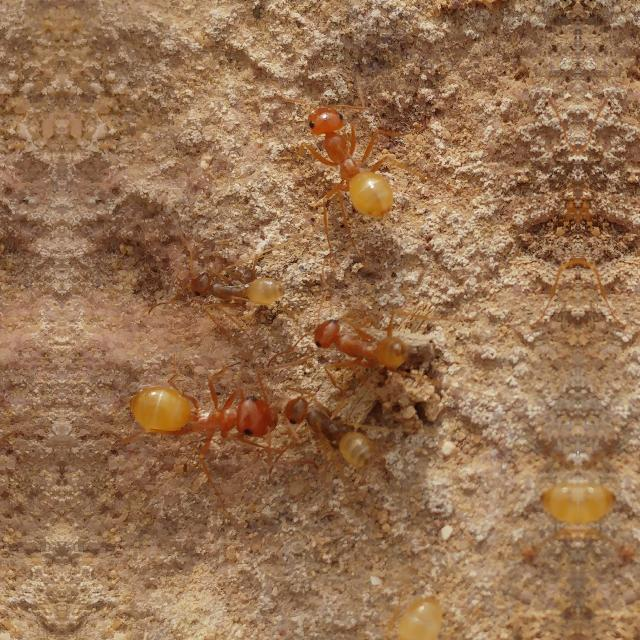Cataglyphis: (119, 356, 289, 476), (294, 87, 402, 231), (303, 294, 429, 398), (274, 376, 388, 482), (171, 243, 289, 324), (578, 463, 622, 569), (534, 463, 576, 569)
